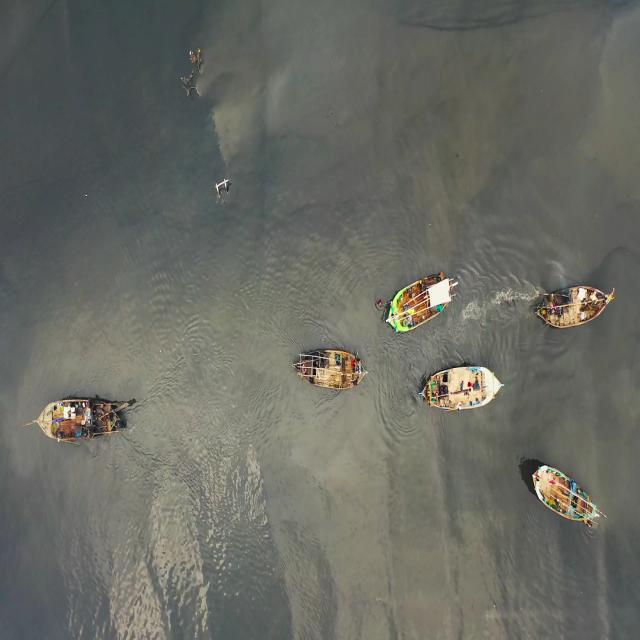ship: (22, 390, 136, 447), (285, 331, 366, 394), (529, 464, 599, 534), (389, 273, 455, 332), (424, 362, 501, 410), (542, 290, 613, 325)
